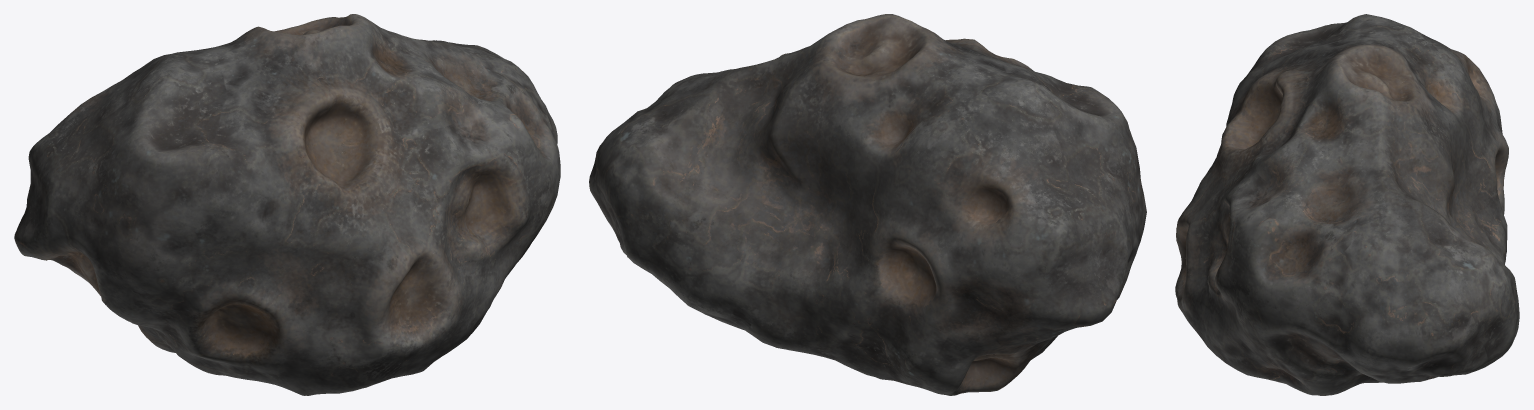
Rendered from astroid-new.glb.
3 renders of one model, left to right at view 1: azimuth 30°, elevation 25°; view 2: azimuth 150°, elevation 25°; view 3: azimuth 270°, elevation 25°, orthographic. The views are drawn at different scales.
Parts seen in each view (by area): view 1: Asteroid_2a; view 2: Asteroid_2a; view 3: Asteroid_2a.
Part boxes in pixels (x1,y1,x2,y2): Asteroid_2a: [14, 14, 560, 395]; Asteroid_2a: [589, 14, 1146, 395]; Asteroid_2a: [1175, 14, 1519, 395].
Size of the model in its own units: 2.82 by 1.72 by 1.73.
Materials: 1 (1 with a texture image).
